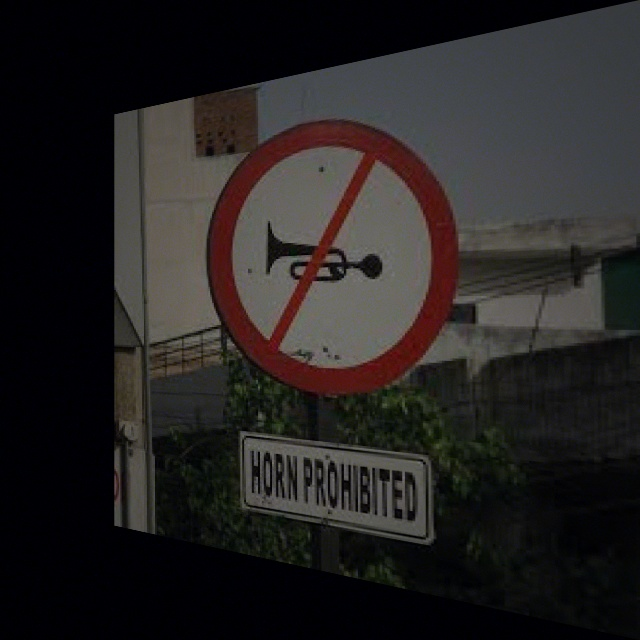Horn_Prohibited: (215, 98, 456, 400)
